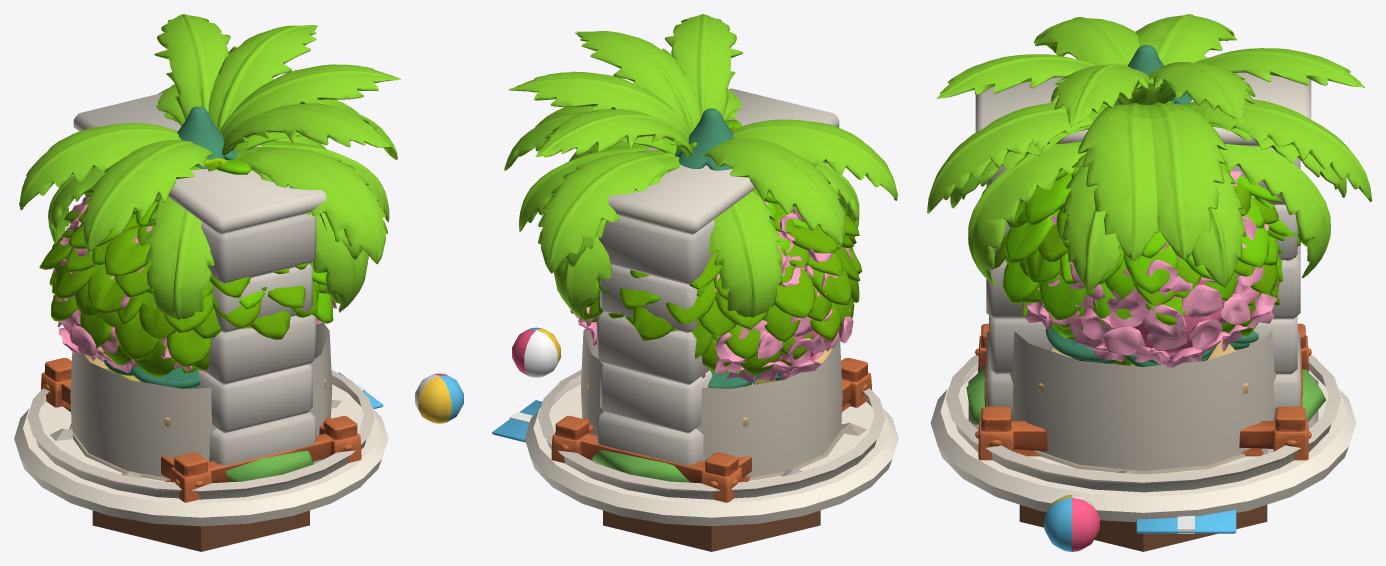
The model's file is decor.23d7f210.glb.
The picture shows the model from 3 angles, left to right: view 1: azimuth 30°, elevation 25°; view 2: azimuth 150°, elevation 25°; view 3: azimuth 270°, elevation 25°; orthographic projection. The views are drawn at different scales.
Visible parts, largest first — view 1: Br_pier, Tree_palm_a, Tree_palm_b, Tree_round_b, Tile_rim_c, Ped_body, Tile_side_c, Planter, Br_leg, Tree_blossom_b, Tree_pine_b, Umbrella (+2 smaller); view 2: Br_pier, Tree_palm_b, Tree_palm_a, Tree_round_b, Tile_rim_c, Ped_body, Tile_side_c, Planter, Tree_blossom_b, Br_leg, Umbrella, Tree_pine_b (+3 smaller); view 3: Tree_palm_b, Tree_palm_a, Ped_body, Br_pier, Tile_rim_c, Tree_round_a, Tree_blossom_a, Tile_side_c, Planter, Umbrella, Tree_round_b, Br_leg (+2 smaller).
Boxes of the visible parts, bbox=[...] form: Br_pier: bbox=[73, 92, 326, 482]; Tree_palm_a: bbox=[19, 25, 397, 312]; Tree_palm_b: bbox=[81, 14, 400, 319]; Tree_round_b: bbox=[39, 189, 326, 377]; Tile_rim_c: bbox=[14, 384, 388, 526]; Ped_body: bbox=[70, 323, 332, 477]; Tile_side_c: bbox=[27, 369, 374, 499]; Planter: bbox=[41, 358, 361, 502]; Br_leg: bbox=[92, 510, 309, 551]; Tree_blossom_b: bbox=[53, 194, 205, 374]; Tree_pine_b: bbox=[96, 106, 237, 388]; Umbrella: bbox=[338, 372, 463, 423]; Br_pier: bbox=[589, 88, 839, 482]; Tree_palm_b: bbox=[504, 31, 897, 319]; Tree_palm_a: bbox=[508, 14, 845, 317]; Tree_round_b: bbox=[583, 165, 862, 375]; Tile_rim_c: bbox=[524, 384, 898, 526]; Ped_body: bbox=[581, 328, 842, 476]; Tile_side_c: bbox=[538, 369, 885, 499]; Planter: bbox=[551, 358, 871, 502]; Tree_blossom_b: bbox=[586, 201, 853, 382]; Br_leg: bbox=[603, 510, 820, 551]; Umbrella: bbox=[492, 327, 560, 442]; Tree_pine_b: bbox=[675, 108, 781, 388]; Tree_palm_b: bbox=[950, 17, 1371, 291]; Tree_palm_a: bbox=[927, 14, 1346, 287]; Ped_body: bbox=[1010, 331, 1276, 470]; Br_pier: bbox=[966, 72, 1325, 430]; Tile_rim_c: bbox=[930, 370, 1356, 522]; Tree_round_a: bbox=[982, 100, 1300, 337]; Tree_blossom_a: bbox=[1025, 171, 1278, 367]; Tile_side_c: bbox=[945, 355, 1341, 492]; Planter: bbox=[975, 323, 1311, 460]; Umbrella: bbox=[1044, 495, 1236, 551]; Tree_round_b: bbox=[994, 182, 1307, 341]; Br_leg: bbox=[1019, 505, 1267, 551].
Size of the model in its own units: 3.58 by 3.72 by 3.11.
